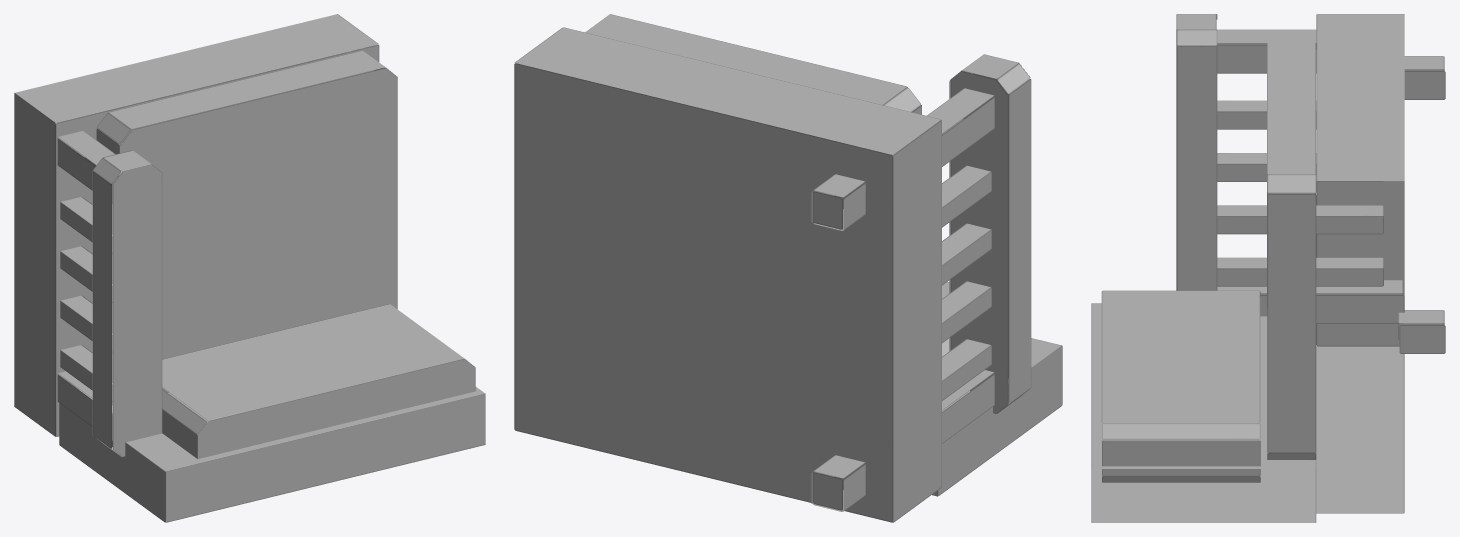
The model's file is pz_sofa_seating_indoor_01_purple_rattan_0_0.obj.
The picture shows the model from 3 angles, left to right: view 1: azimuth 30°, elevation 25°; view 2: azimuth 150°, elevation 25°; view 3: azimuth 270°, elevation 25°; orthographic projection. The views are drawn at different scales.
Bounding box in the file's own units: 0.99 × 0.915 × 0.86.
Materials: 1 (1 with a texture image).
